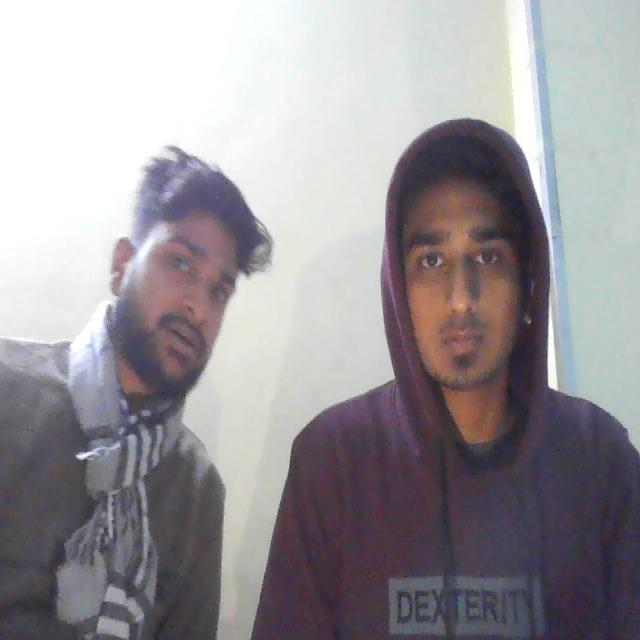real: (383, 110, 548, 422), (110, 148, 245, 404)
